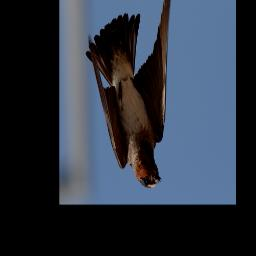Swallow: (86, 0, 173, 189)
